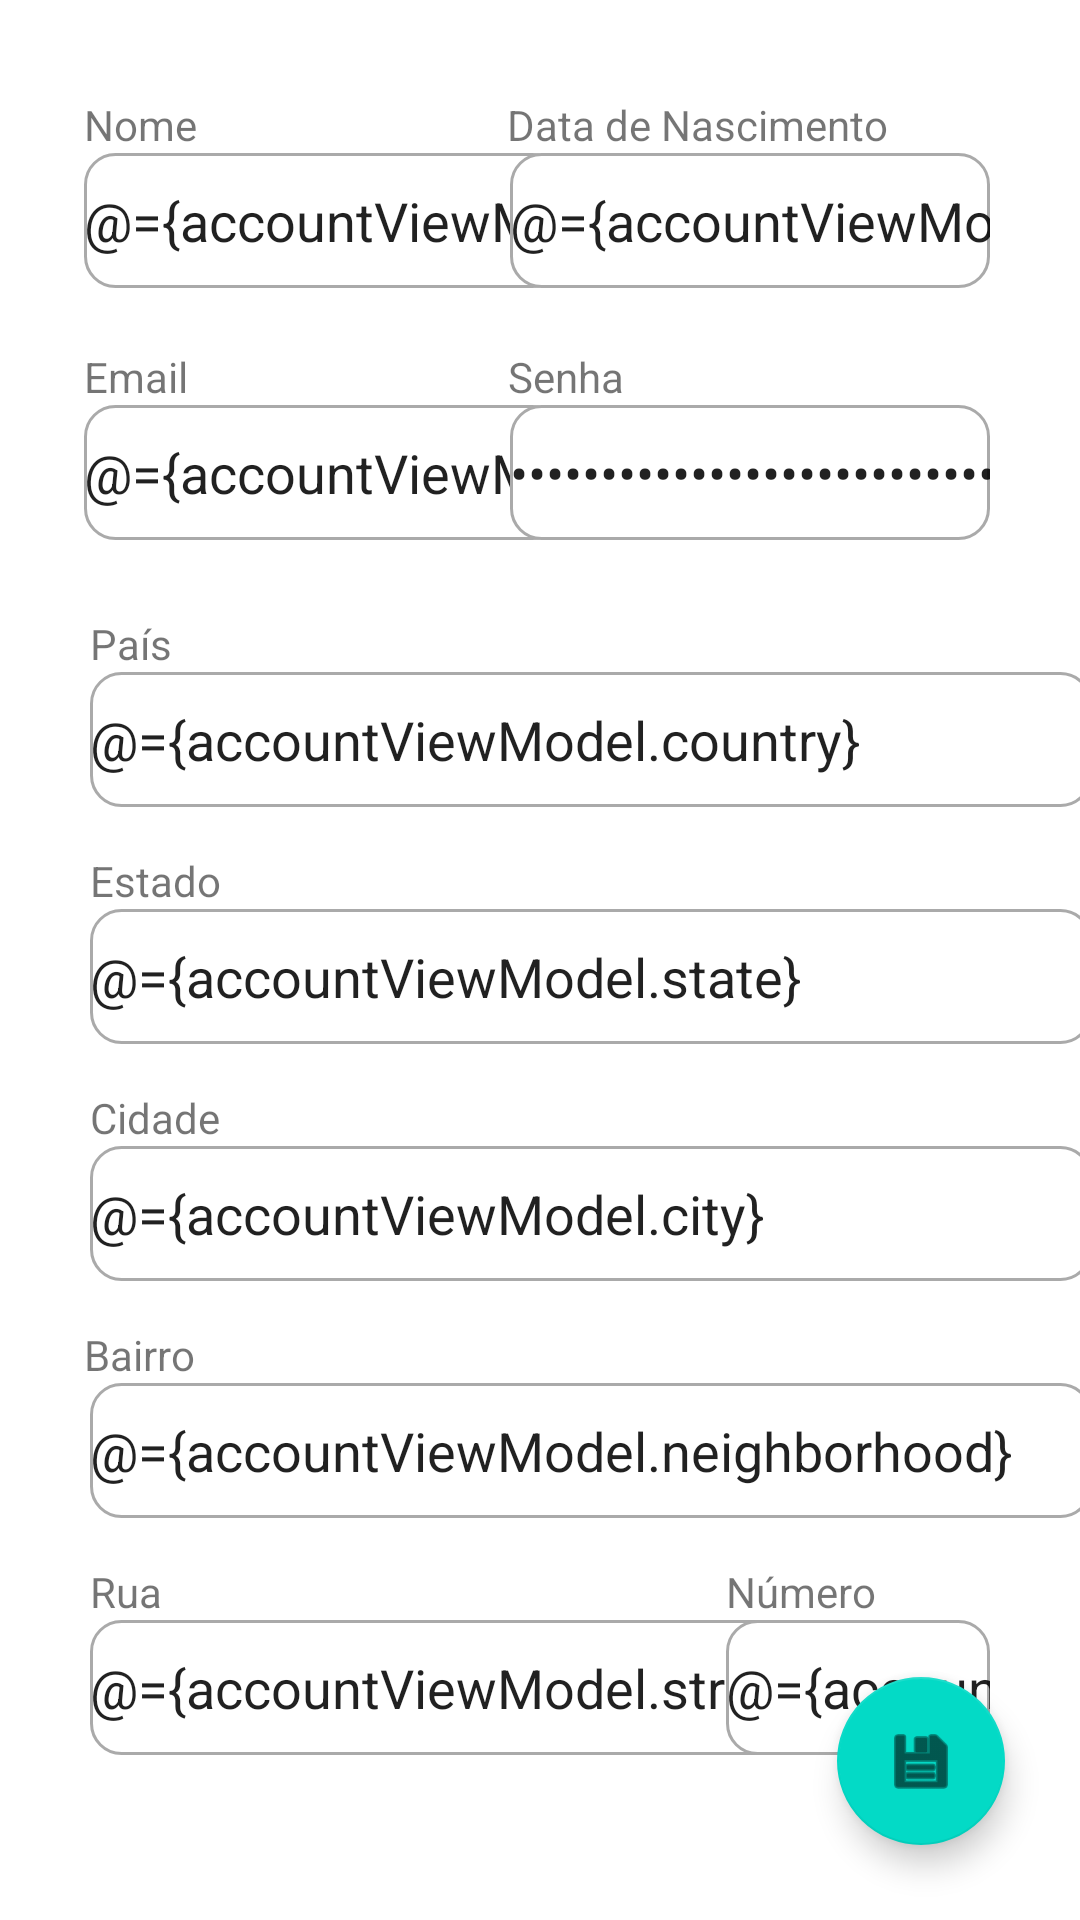

Icon bounding boxes for this 1080px×1920px phone screenshot, format region(x1, y1, x2, y2):
save: region(837, 1677, 1005, 1845)
